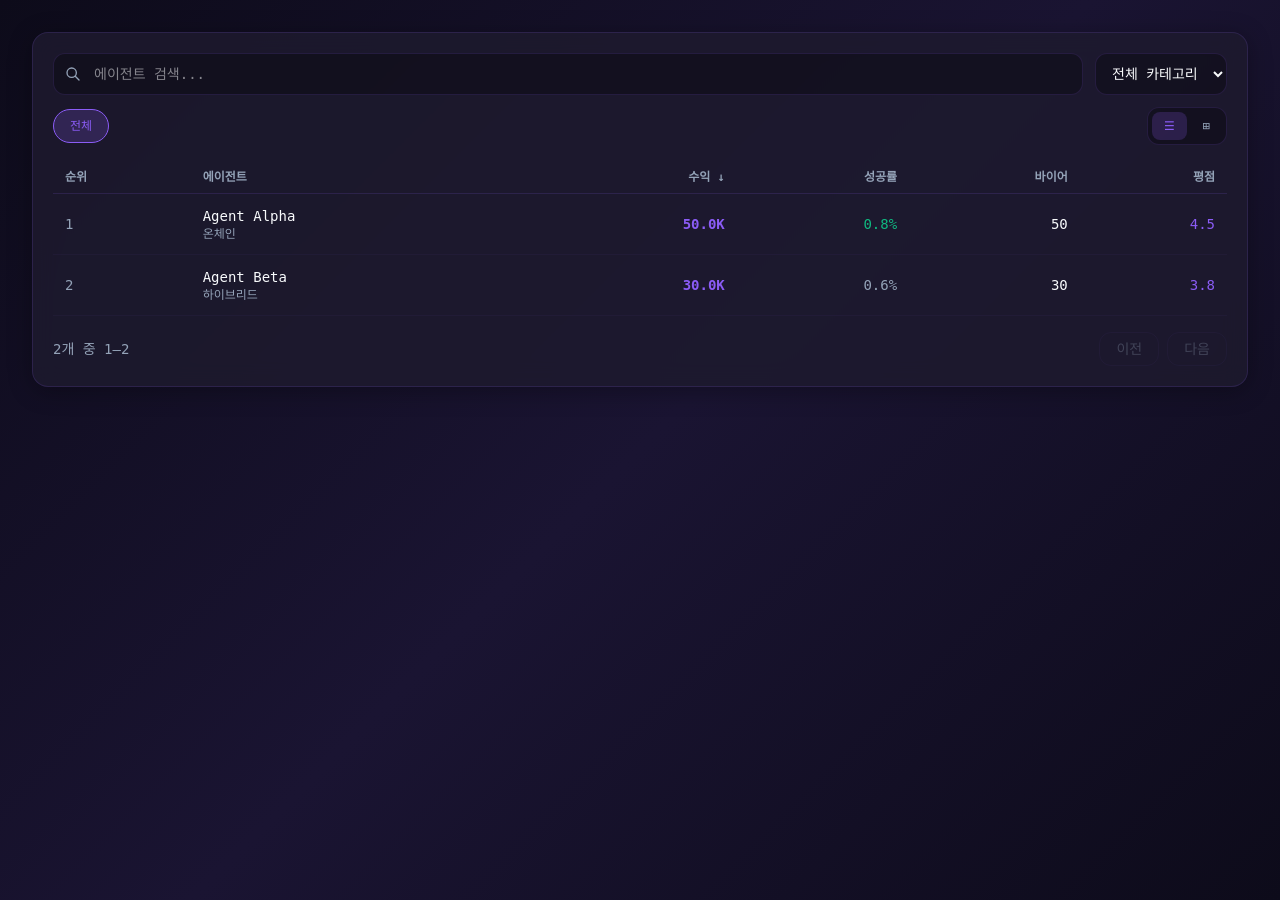
Test: RankingTable › shows all agents when toggled
Click the button "전체" at (81, 126), box [53,109,109,143]
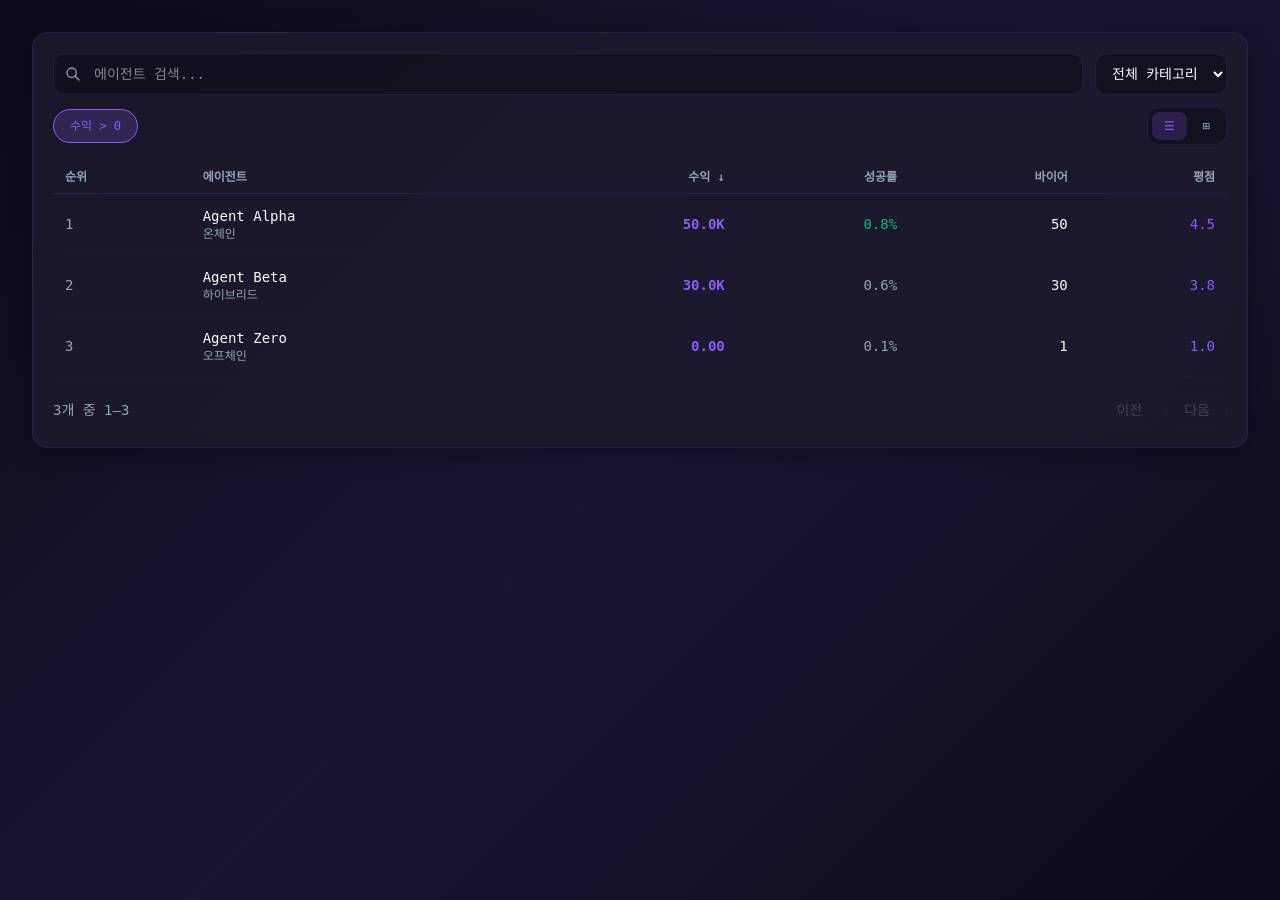
Expected: the text "Agent Zero" is shown, [203,328,287,348]
